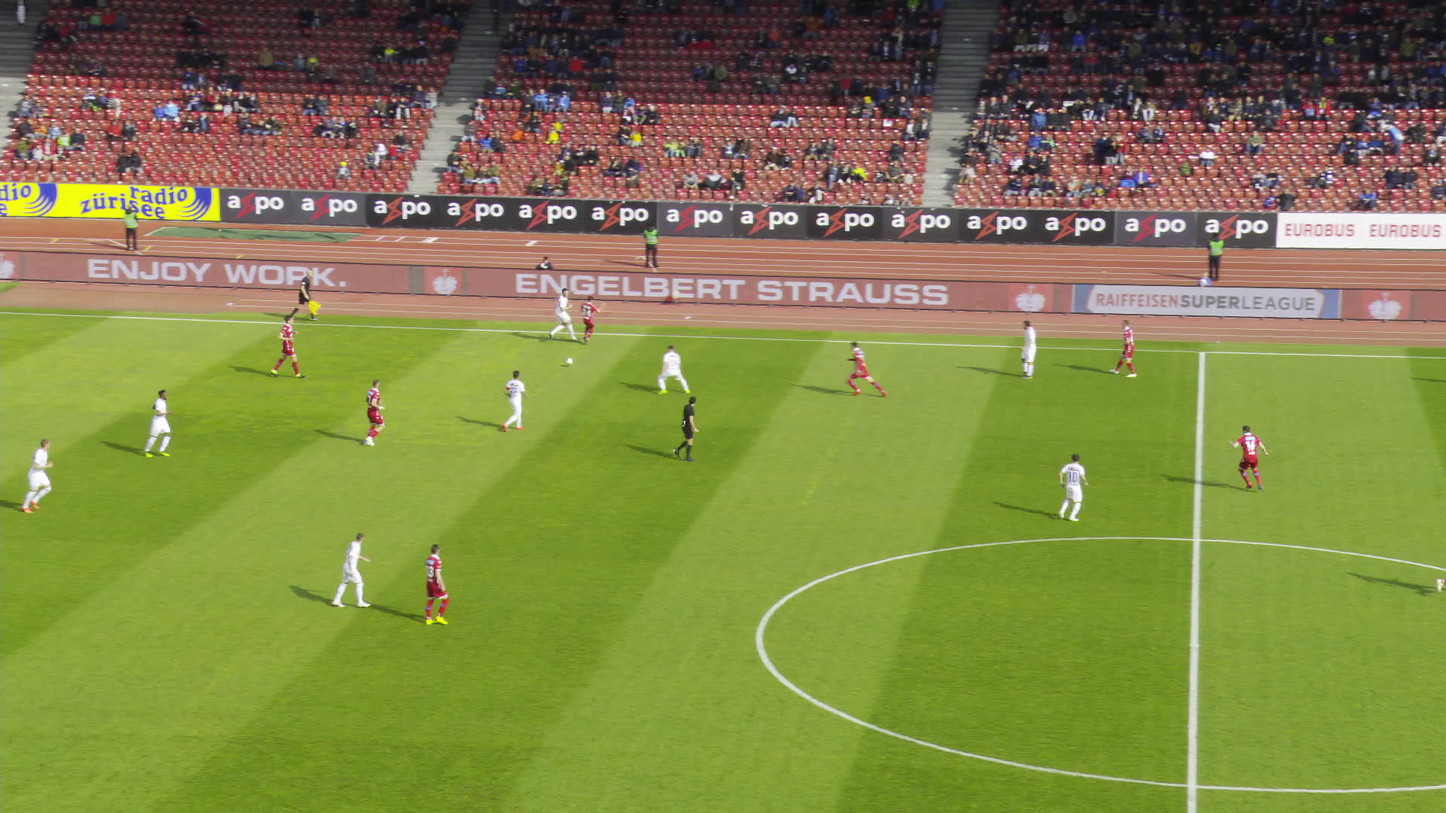ball: (566, 358, 572, 363)
player: (18, 434, 69, 514), (423, 544, 466, 626), (334, 532, 377, 608), (1234, 429, 1283, 493), (147, 389, 183, 458), (1057, 452, 1092, 522), (362, 376, 397, 445), (845, 337, 885, 397), (272, 314, 309, 377), (655, 343, 690, 397), (1021, 318, 1051, 379), (1121, 316, 1149, 377), (507, 367, 532, 432), (551, 288, 577, 344), (583, 295, 606, 346)
referee: (676, 394, 712, 463), (294, 266, 326, 321)
